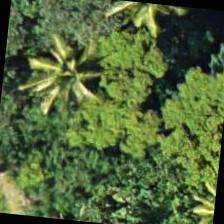Kelapa_Sawit: (18, 23, 116, 122)
